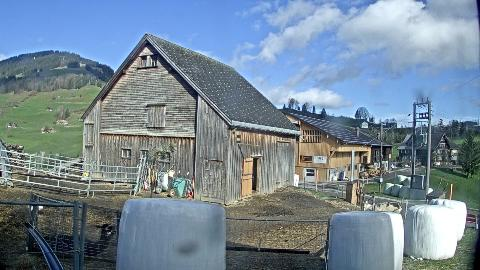car: (391, 164, 394, 170)
sheep: (34, 224, 118, 262), (364, 200, 403, 216)
